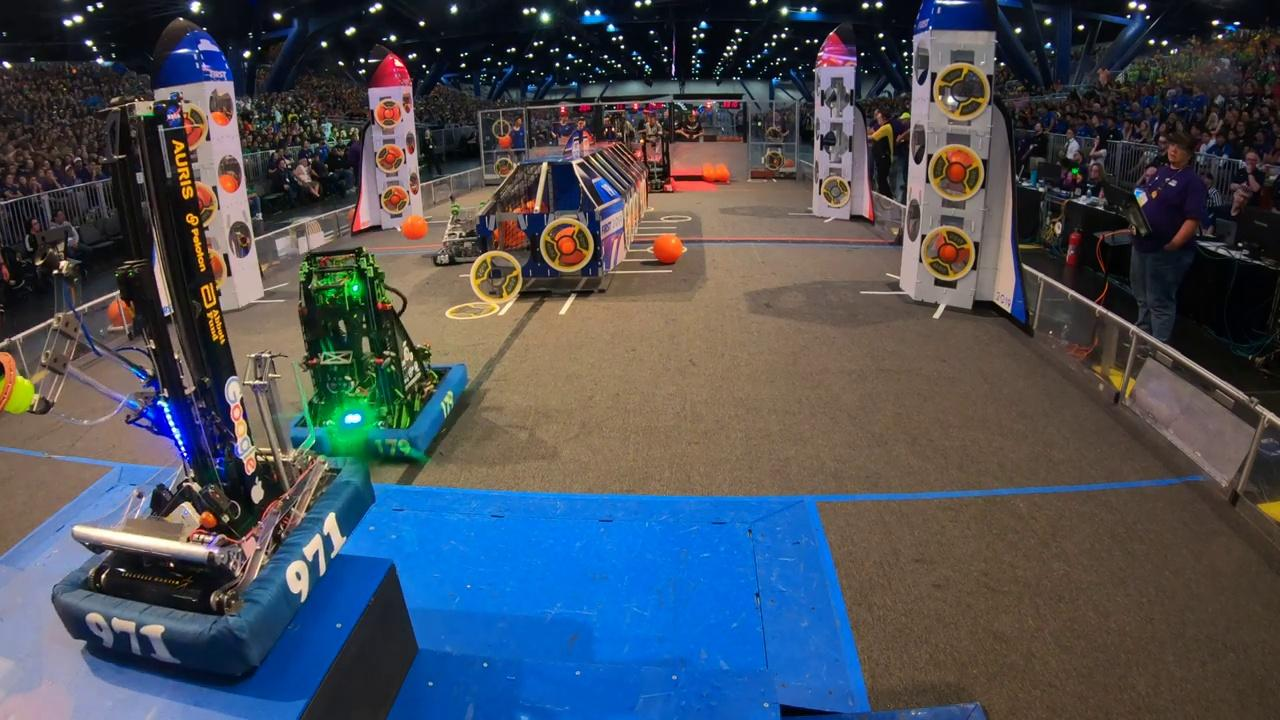robot: (44, 99, 383, 682), (276, 248, 474, 466), (432, 200, 482, 268)
